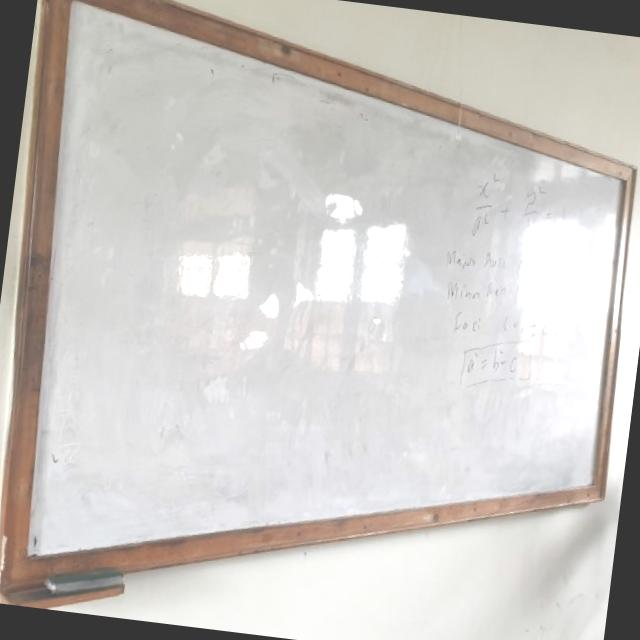White-board: (24, 0, 629, 574)
